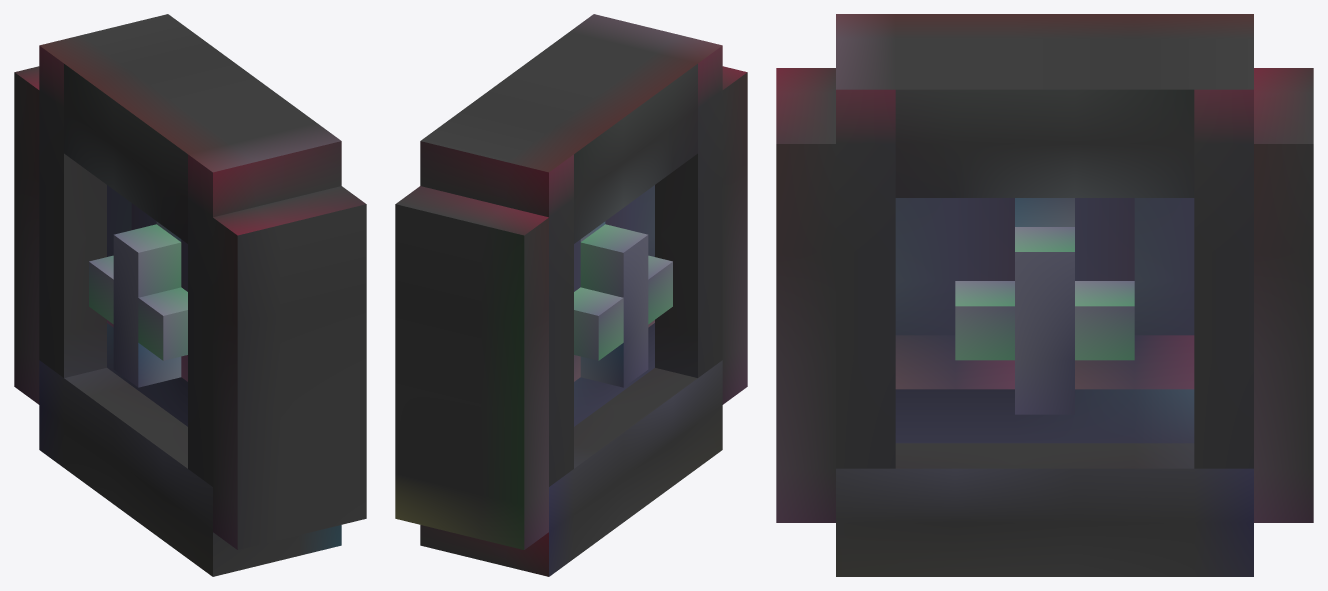
The model's file is Scooter_Big_Wheel_00.fbx.
The picture shows the model from 3 angles, left to right: view 1: azimuth 30°, elevation 25°; view 2: azimuth 150°, elevation 25°; view 3: azimuth 270°, elevation 25°; orthographic projection. The views are drawn at different scales.
Visible parts, largest first — view 1: Scooter_Big_Wheel_00; view 2: Scooter_Big_Wheel_00; view 3: Scooter_Big_Wheel_00.
Part boxes in pixels (x1,y1,x2,y2): Scooter_Big_Wheel_00: (14, 14, 366, 576); Scooter_Big_Wheel_00: (395, 14, 747, 576); Scooter_Big_Wheel_00: (776, 14, 1313, 576).
Size of the model in its own units: 15 by 45 by 45.
